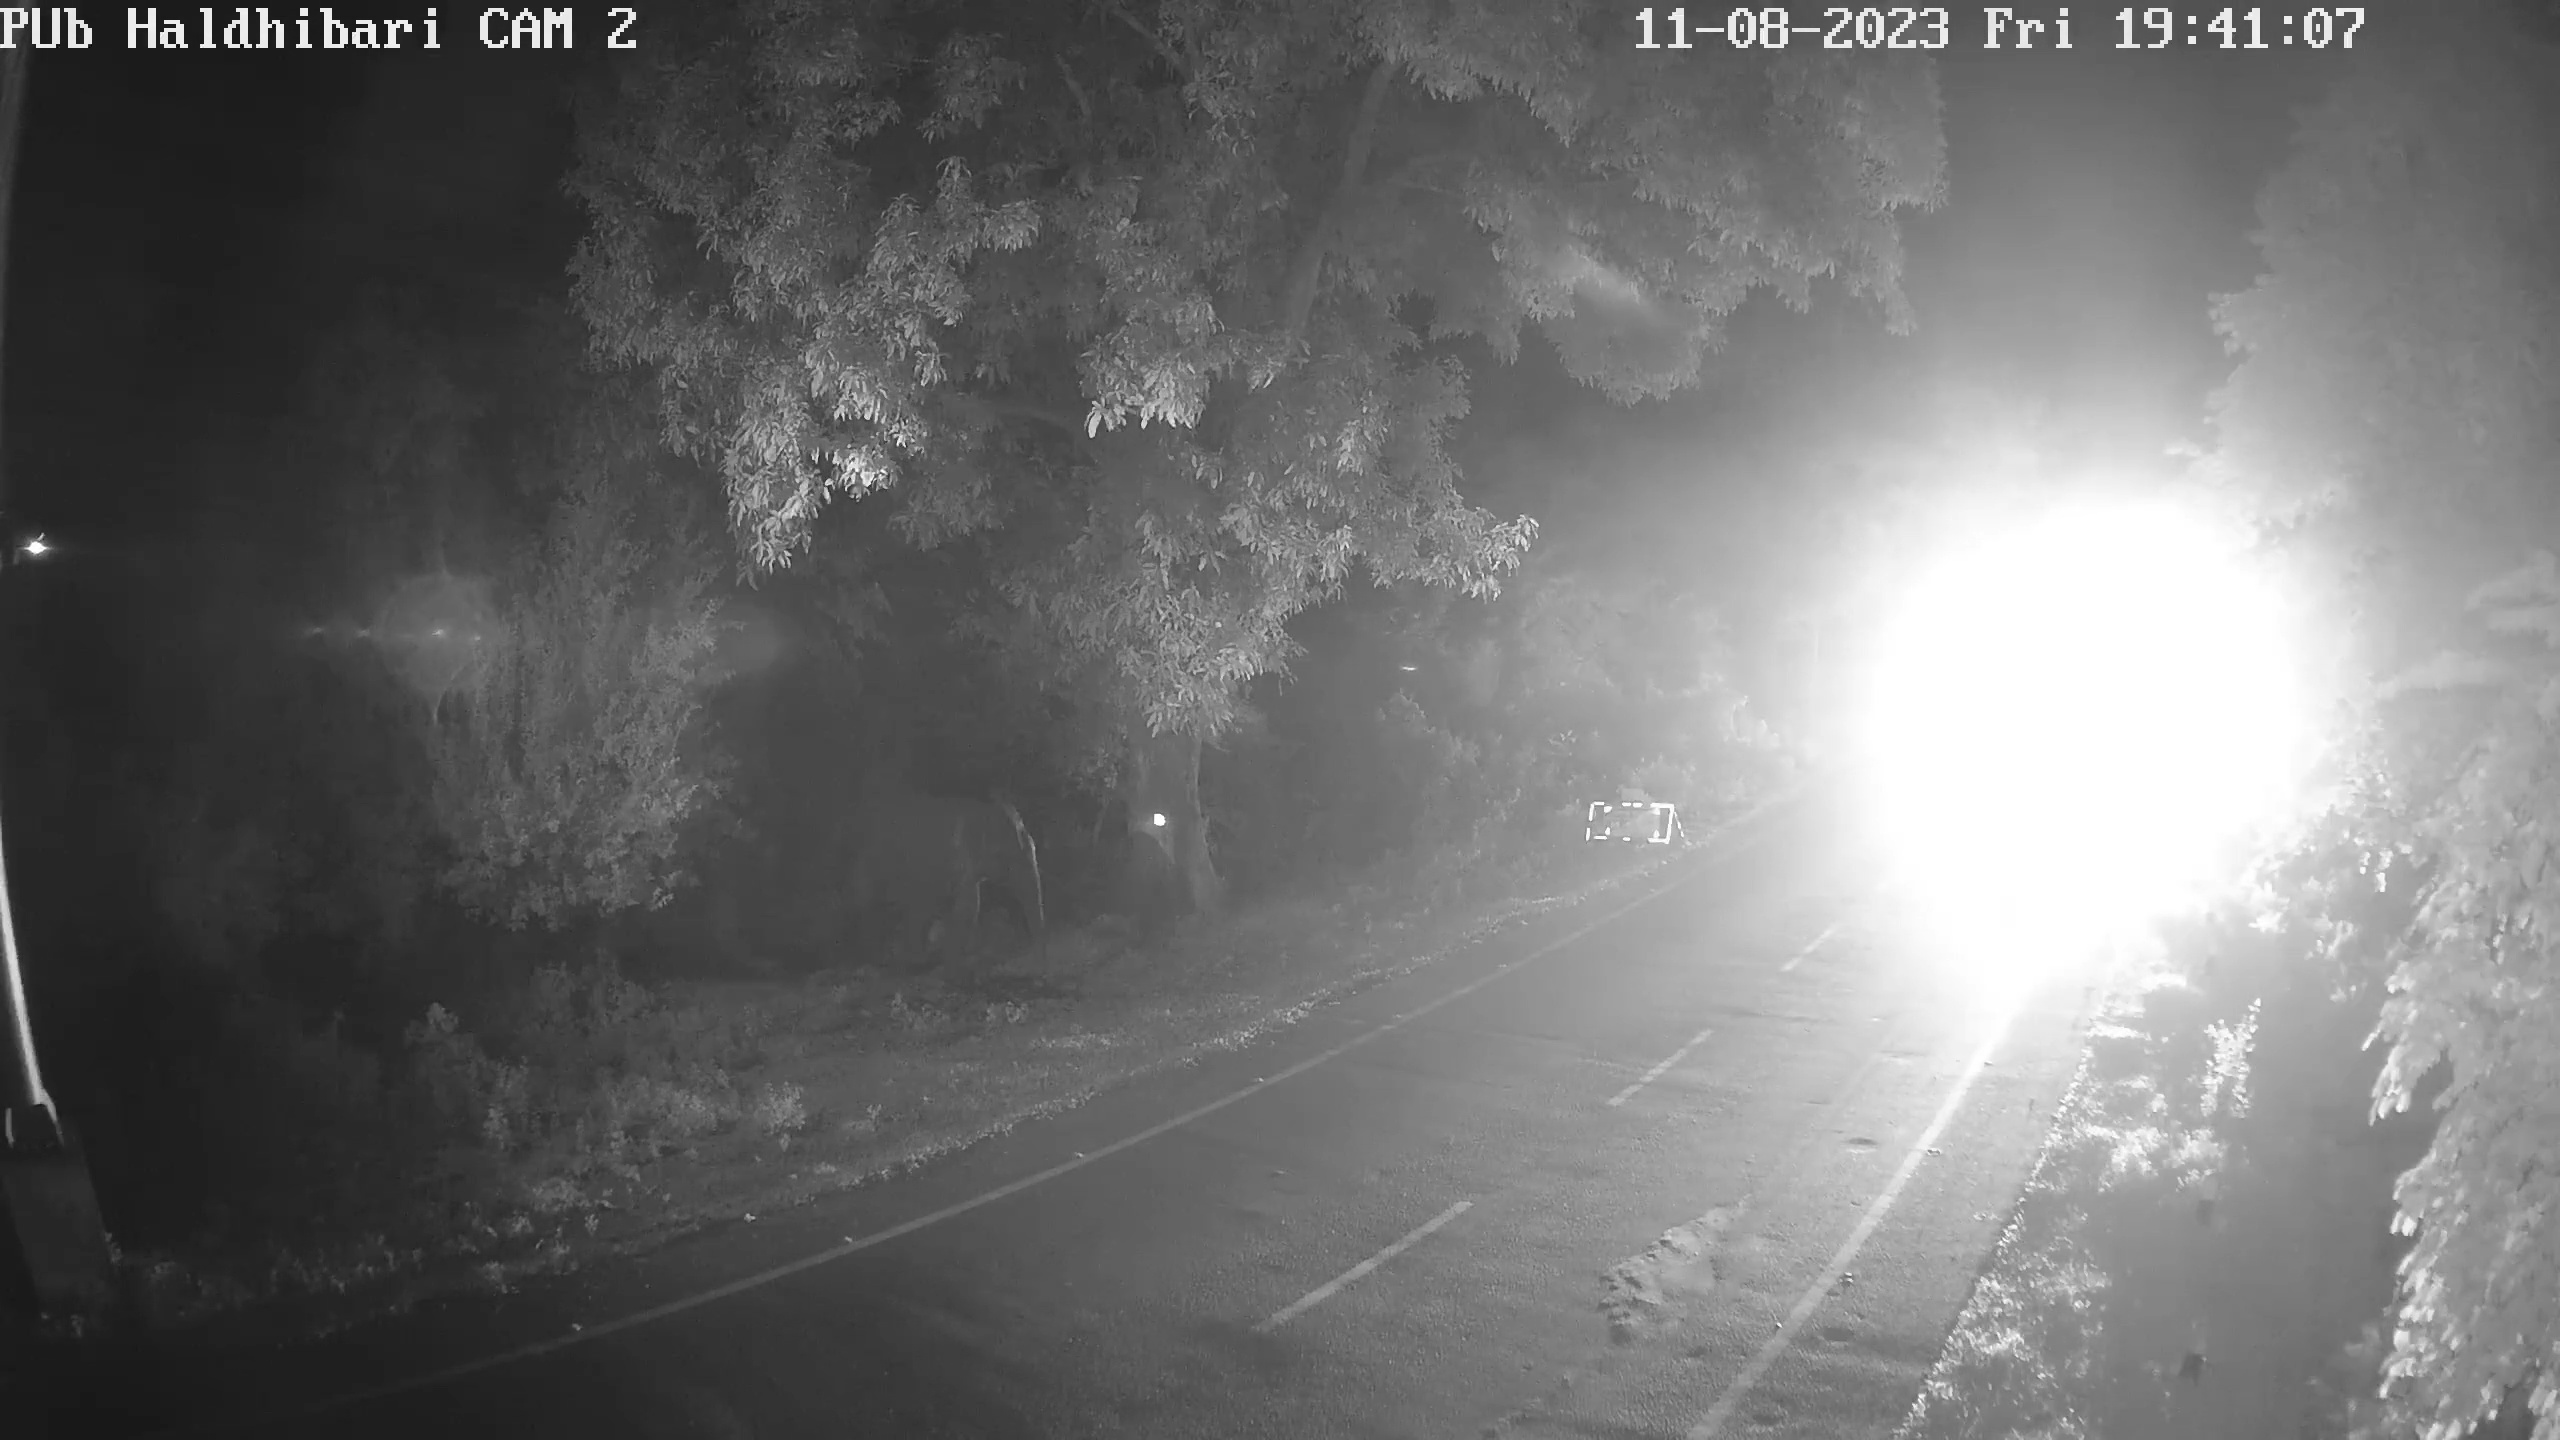elephants: (851, 786, 1043, 972)
